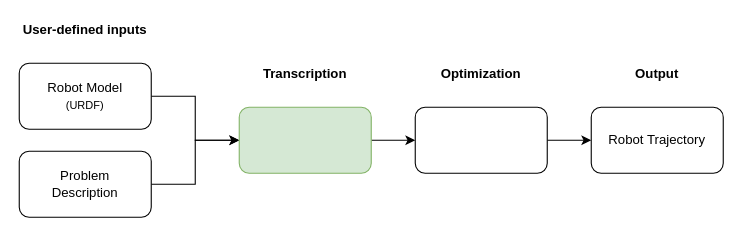
Some shapes in this 743 by 237 pixel diagram are drawn without their labels. The shapes that lost their labels are listed below. From the top down, each one's box as (x1, y1, x2, y2) in pixels, then its label:
(238, 106, 371, 173): TORA.jl
(414, 106, 547, 173): NLP Solver (Ipopt or Knitro)
